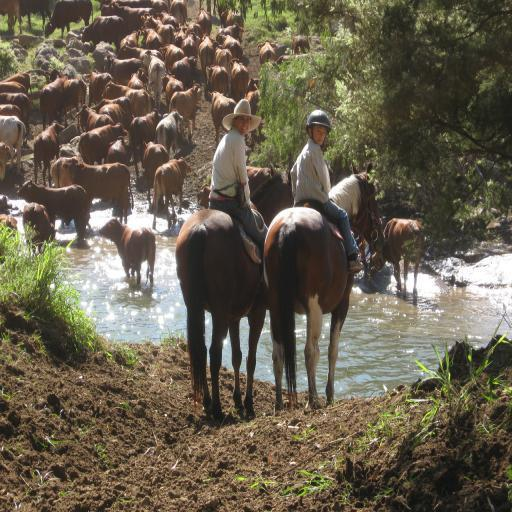horse: (174, 163, 294, 421), (264, 164, 384, 416)
